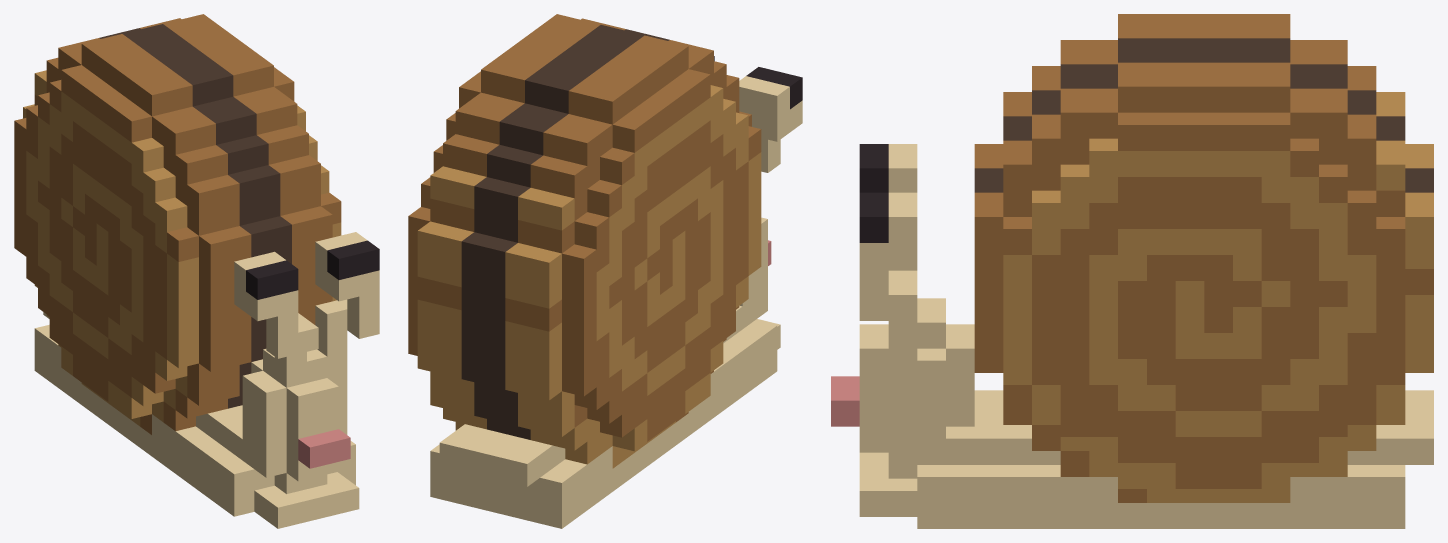
File: snail.glb
3 views of the same model, side by side, from view 1: azimuth 30°, elevation 25°; view 2: azimuth 150°, elevation 25°; view 3: azimuth 270°, elevation 25° (orthographic). The views are drawn at different scales.
Visible parts, largest first — view 1: snail; view 2: snail; view 3: snail.
Part boxes in pixels (x1=…): snail: x1=14, y1=14, x2=379, y2=528; snail: x1=408, y1=14, x2=802, y2=528; snail: x1=831, y1=14, x2=1433, y2=528.
Bounding box in the file's own units: 0.16 × 0.34 × 0.42.
Materials: 1 (1 with a texture image).
